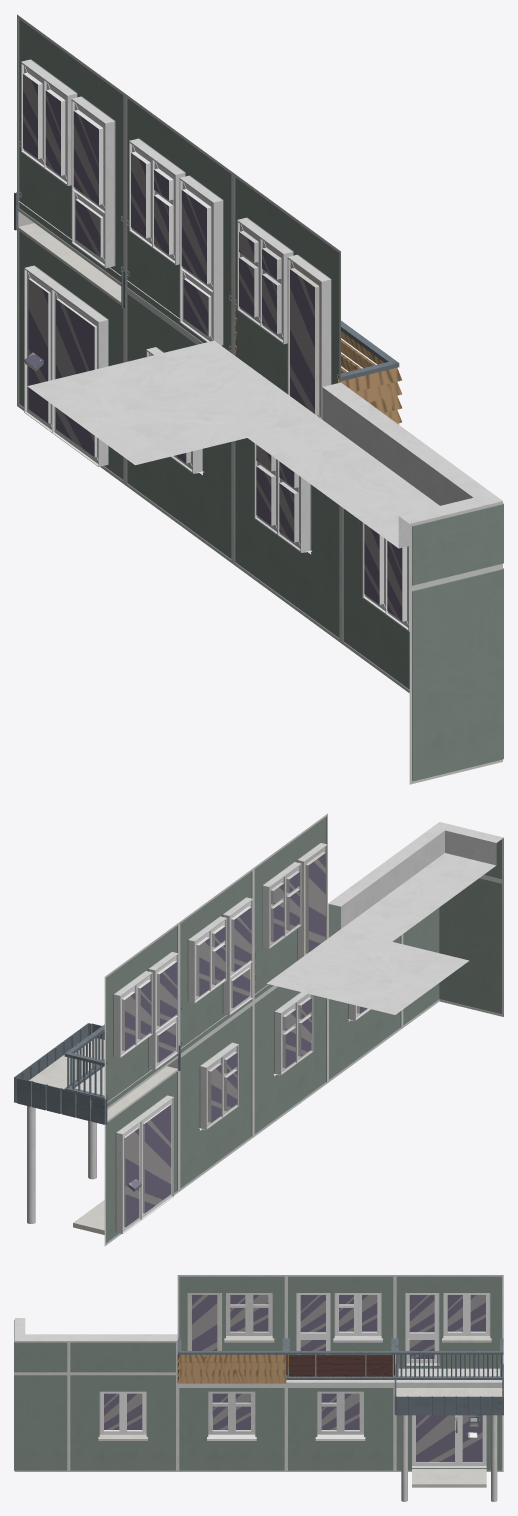
File: Corner.glb
3 renders of one model, top to bottom at view 1: azimuth 30°, elevation 25°; view 2: azimuth 150°, elevation 25°; view 3: azimuth 270°, elevation 25°, orthographic. The views are drawn at different scales.
Visible parts, largest first — view 1: Window_Balcony_0, Window_Balcony_3, Window_Balcony_2, Ceiling_cap, Corner, Door_0, Window_1, Ceiling, Window_0, Ceiling_corner, Window_2; view 2: Door_0, Window_Balcony_3, Window_Balcony_2, Window_0, Window_Balcony_0, Ceiling_cap, Corner, Window_1, Ceiling, Ceiling_corner, Window_2; view 3: Window_Balcony_0, Window_Balcony_2, Window_Balcony_3, Door_0, Window_2, Window_1, Window_0, Corner, Ceiling, Ceiling_corner.
Boxes of the visible parts, <box> form: Window_Balcony_0: <box>233,172,401,424</box>; Window_Balcony_3: <box>17,14,124,285</box>; Window_Balcony_2: <box>125,93,232,353</box>; Ceiling_cap: <box>27,340,321,465</box>; Corner: <box>409,566,503,784</box>; Door_0: <box>14,192,125,484</box>; Window_1: <box>233,438,340,642</box>; Ceiling: <box>248,382,448,516</box>; Window_0: <box>125,290,232,563</box>; Ceiling_corner: <box>356,461,503,588</box>; Window_2: <box>341,506,409,692</box>; Door_0: <box>14,1023,180,1245</box>; Window_Balcony_3: <box>64,923,178,1109</box>; Window_Balcony_2: <box>179,868,253,1055</box>; Window_0: <box>179,1003,253,1191</box>; Window_Balcony_0: <box>253,813,327,1002</box>; Ceiling_cap: <box>267,929,468,1014</box>; Corner: <box>402,877,503,1028</box>; Window_1: <box>253,986,327,1136</box>; Ceiling: <box>328,849,466,941</box>; Ceiling_corner: <box>403,822,503,887</box>; Window_2: <box>328,935,402,1082</box>; Window_Balcony_0: <box>177,1275,286,1387</box>; Window_Balcony_2: <box>286,1275,394,1387</box>; Window_Balcony_3: <box>395,1275,503,1387</box>; Door_0: <box>394,1364,503,1501</box>; Window_2: <box>69,1373,177,1471</box>; Window_1: <box>177,1388,286,1471</box>; Window_0: <box>286,1388,394,1471</box>; Corner: <box>14,1372,68,1471</box>; Ceiling: <box>69,1334,177,1373</box>; Ceiling_corner: <box>14,1318,68,1373</box>.
Bounding box in the file's own units: 5.41 × 6 × 13.52.
1 material, 1 textured.
